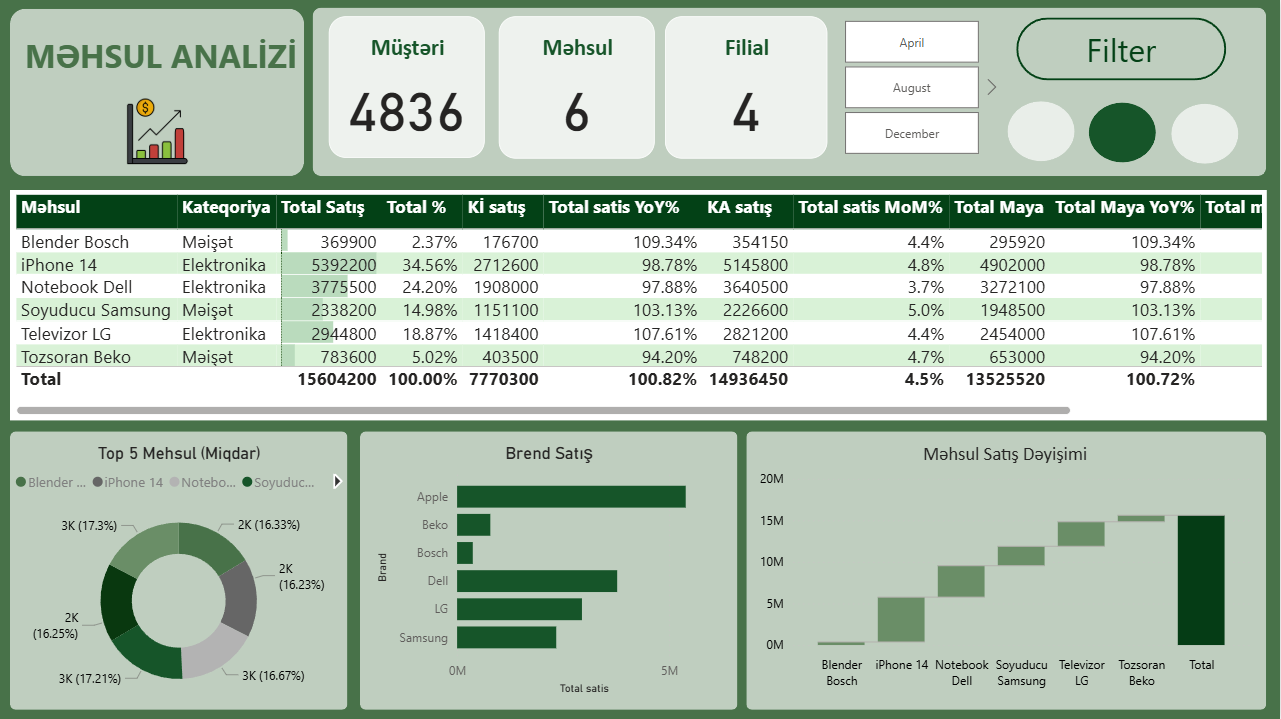

What the dashboard file says about the page in this screenshot:
{"tool":"powerbi","page":{"name":"Məhsul","canvas":[1280,720],"ordinal":1},"visuals":[{"type":"shape","box":[312.5,7.5,953.8,168.8],"z":0},{"type":"shape","box":[9.9,8.7,294.2,167.6],"z":1000},{"type":"textbox","box":[20,28.3,293.3,60],"z":3000},{"type":"image","box":[105.7,94.3,102.9,75.7],"z":4000},{"type":"shape","box":[10,431.2,337.5,278.8],"z":5000},{"type":"shape","box":[360,431.2,377.5,278.8],"z":6000},{"type":"shape","box":[746.2,431.2,520,278.8],"z":7000},{"type":"shape","box":[1088.6,102.9,67.1,60],"z":8000},{"type":"shape","box":[1007.1,101.4,67.1,60],"z":9000},{"type":"shape","box":[1171.4,104.3,67.1,60],"z":10000},{"type":"actionButton","box":[1015.7,17.1,210,62.9],"z":12000},{"type":"actionButton","box":[1007.1,98.6,67.1,65.7],"z":13000},{"type":"actionButton","box":[1171.2,97.5,67.5,72.5],"z":14000},{"type":"card","title":"Müştəri","fields":{"Values":["Dax.Musteri sayı"]},"box":[328.8,16.2,156.2,141.2],"z":15000},{"type":"card","title":"Məhsul","fields":{"Values":["Dax.Məhsul sayı"]},"box":[498.8,16.2,156.2,142.5],"z":16000},{"type":"card","title":"Filial","fields":{"Values":["Dax.Filial Sayı-"]},"box":[665,16.2,162.5,142.5],"z":17000},{"type":"slicer","fields":{"Values":["Tarix.Ay_adı"]},"box":[818.6,14.3,184.3,147.1],"z":18000},{"type":"tableEx","fields":{"Values":["Satış.Məhsul","Satış.Kateqoriya","Dax.Total satis","Dax.Total %","Dax.Kİ satış","Dax.Total satis YoY%","Dax.KA satış","Dax.Total satis MoM%","Dax.Total maya","Dax.Total maya YoY%","Dax.Total maya MoM%","Dax.Total Mənfəət"]},"box":[10,190,1256.7,230],"z":19000},{"type":"donutChart","title":"Top 5 Mehsul (Miqdar)","fields":{"Category":["Satış.Məhsul"],"Y":["Sum(Satış.Miqdar)"]},"box":[9.7,442.8,337.8,267.8],"z":20000},{"type":"barChart","title":"Brend Satış","fields":{"Category":["Satış.Brand"],"Y":["Dax.Total satis"]},"box":[372,442.1,353.2,256.8],"z":21000},{"type":"waterfallChart","title":"Məhsul Satış Dəyişimi","fields":{"Category":["Satış.Məhsul"],"Y":["Dax.Total satis"]},"box":[755,442.5,500,253.8],"z":22000}]}

Visuals, with their boxes in screenshot pixels (x1, y1, x2, y2), scaled from the page's 1280x720 canvas onto the 1281x719 screenshot:
shape: left=313, top=7, right=1267, bottom=176
shape: left=10, top=9, right=304, bottom=176
textbox: left=20, top=28, right=314, bottom=88
image: left=106, top=94, right=209, bottom=170
shape: left=10, top=431, right=348, bottom=709
shape: left=360, top=431, right=738, bottom=709
shape: left=747, top=431, right=1267, bottom=709
shape: left=1089, top=103, right=1157, bottom=163
shape: left=1008, top=101, right=1075, bottom=161
shape: left=1172, top=104, right=1239, bottom=164
actionButton: left=1016, top=17, right=1227, bottom=80
actionButton: left=1008, top=98, right=1075, bottom=164
actionButton: left=1172, top=97, right=1240, bottom=170
"Müştəri" card: left=329, top=16, right=485, bottom=157
"Məhsul" card: left=499, top=16, right=656, bottom=158
"Filial" card: left=666, top=16, right=828, bottom=158
slicer - Tarix.Ay_adı: left=819, top=14, right=1004, bottom=161
tableEx - Satış.Məhsul x Satış.Kateqoriya: left=10, top=190, right=1268, bottom=419
"Top 5 Mehsul (Miqdar)" donutChart: left=10, top=442, right=348, bottom=710
"Brend Satış" barChart: left=372, top=441, right=726, bottom=698
"Məhsul Satış Dəyişimi" waterfallChart: left=756, top=442, right=1256, bottom=695
